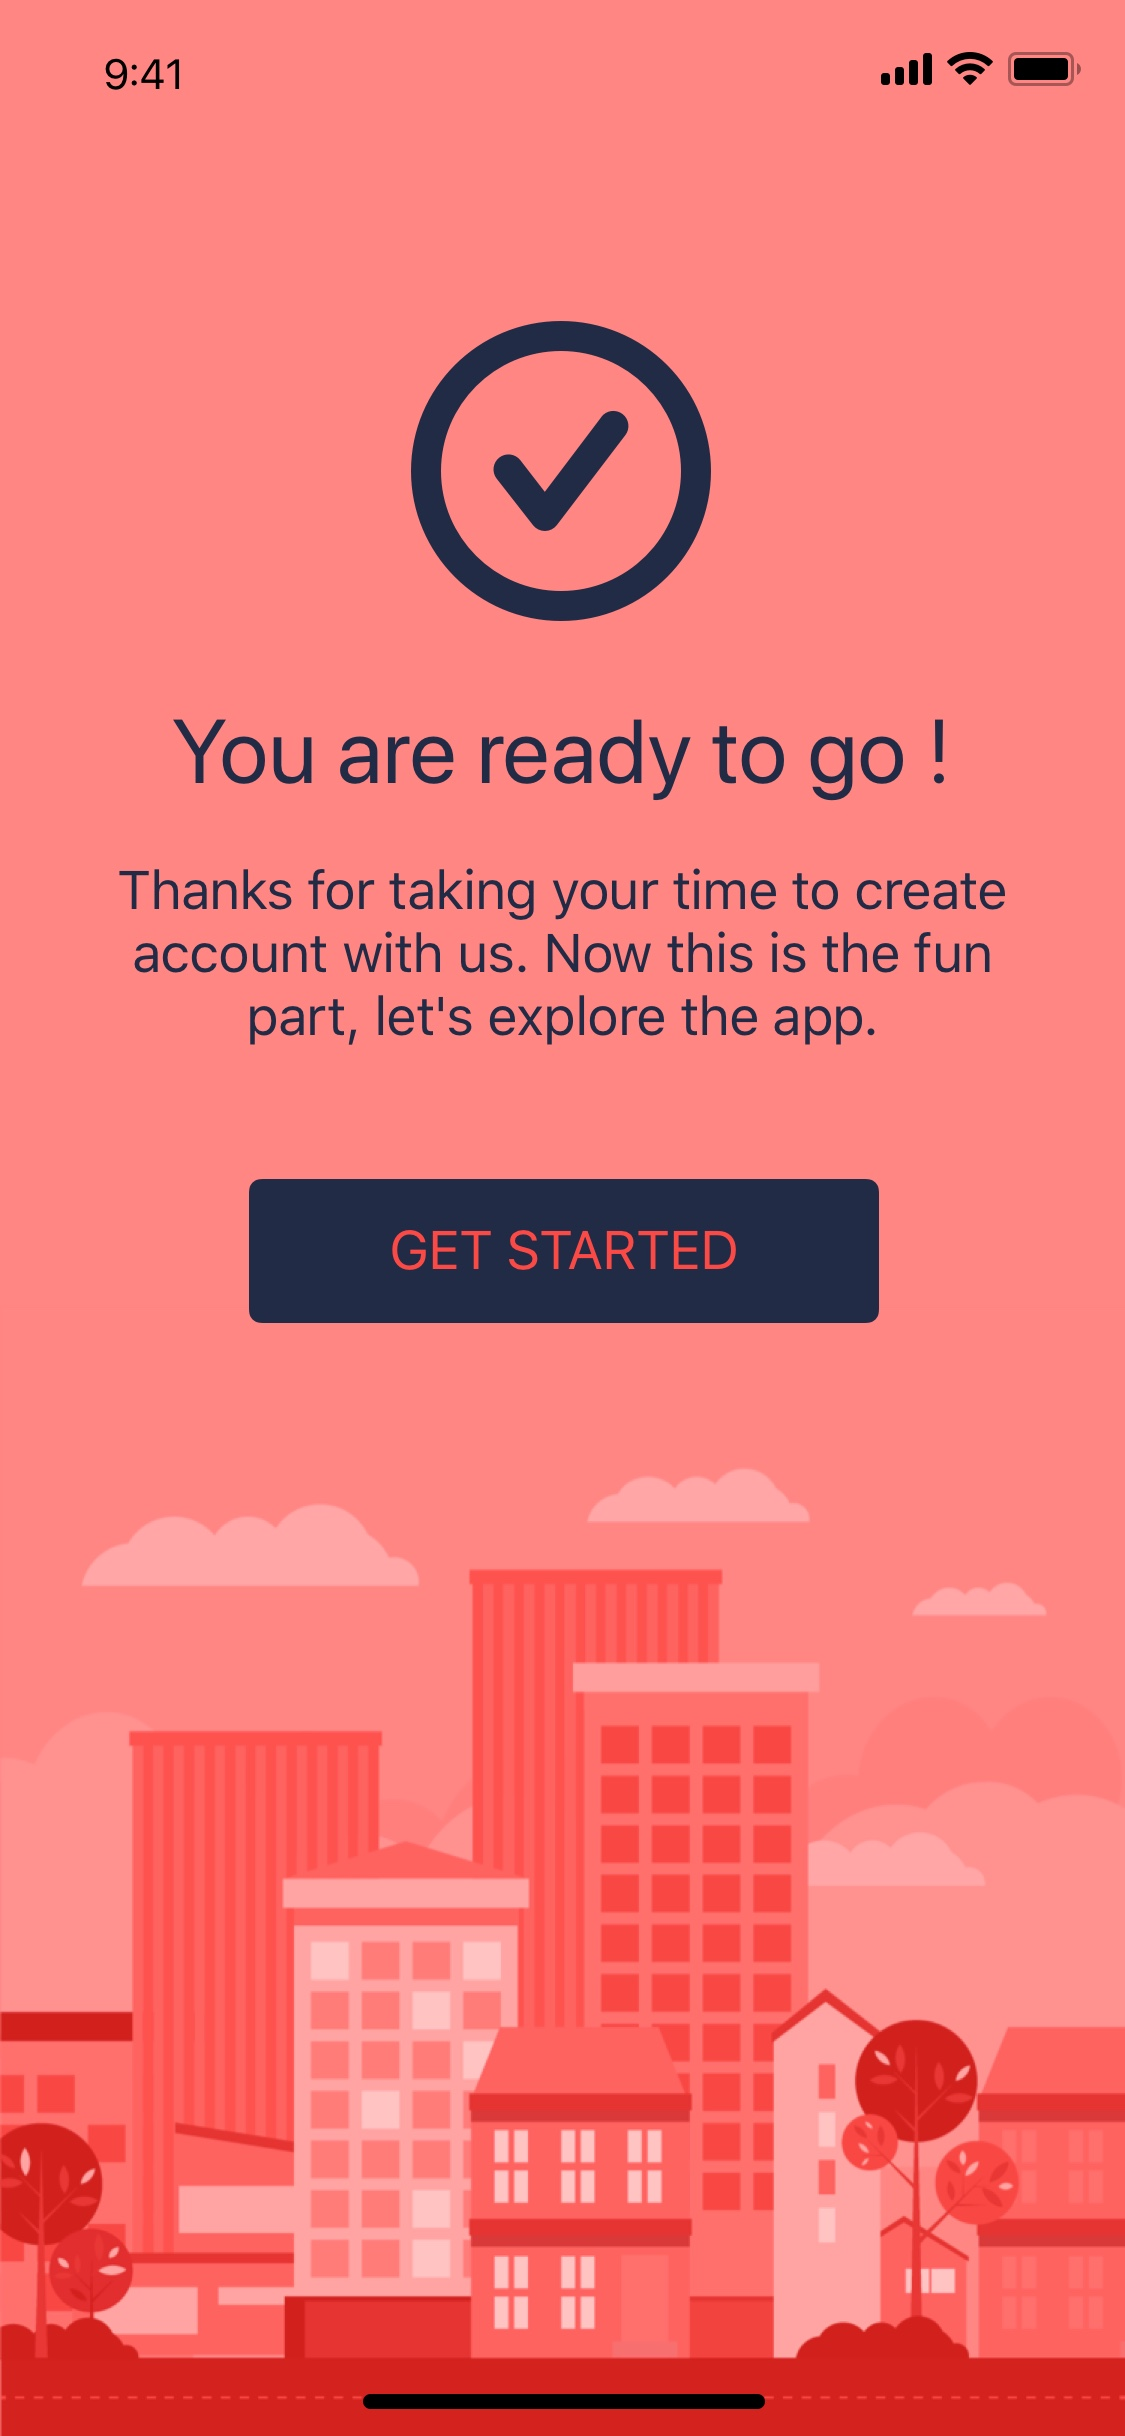BackgroundImage: (2, 2, 1123, 2436)
Icon: (409, 320, 713, 625)
Text: (117, 865, 1007, 1047), (171, 718, 949, 805)
TextButton: (249, 1178, 881, 1325)
UpperTaskBar: (104, 50, 1085, 93)
